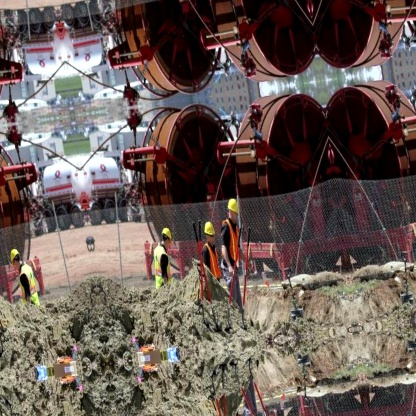vest: (217, 216, 243, 263), (148, 242, 173, 289), (201, 240, 223, 280)
yellow: (224, 196, 240, 215), (201, 218, 216, 237), (159, 224, 173, 241)
